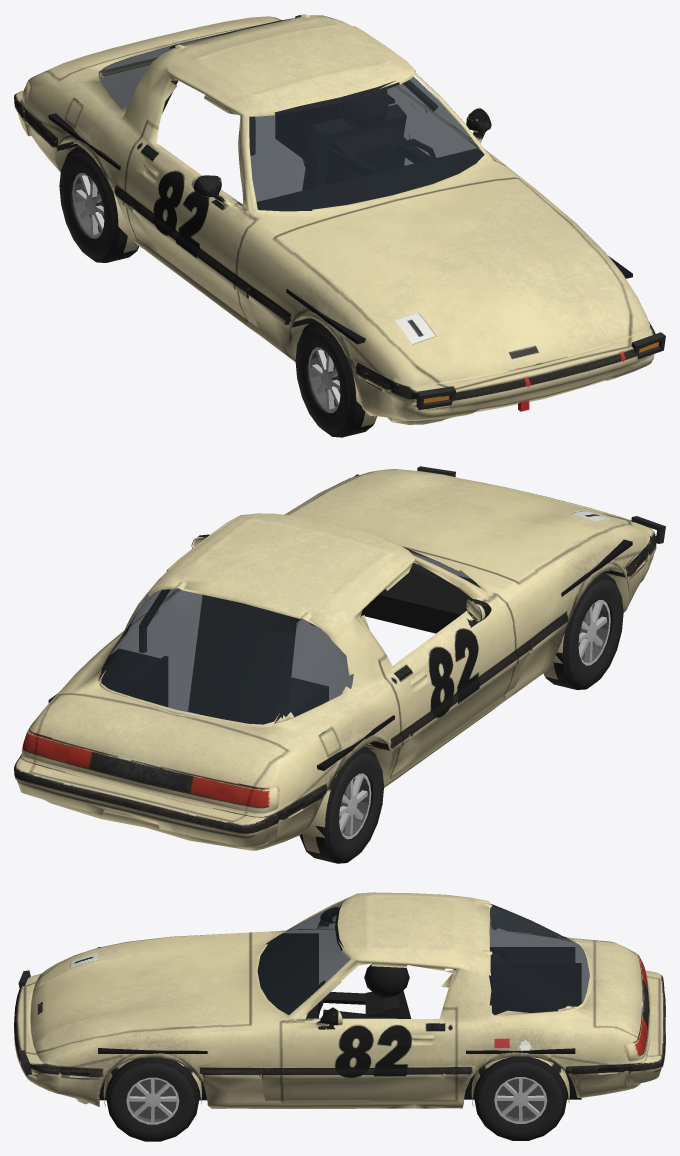
3 renders of one model, top to bottom at view 1: azimuth 30°, elevation 25°; view 2: azimuth 150°, elevation 25°; view 3: azimuth 270°, elevation 25°, orthographic. The views are drawn at different scales.
Visible parts, largest first — view 1: body, wheel_fr, wheel_rr; view 2: body, wheel_rr, wheel_fr; view 3: body, wheel_fl, wheel_rl.
Part boxes in pixels (x1,y1,x2,y2): body: (14,14,665,427); wheel_fr: (295,320,373,437); wheel_rr: (59,146,138,262); body: (14,466,665,853); wheel_rr: (299,746,383,863); wheel_fr: (545,573,623,689); body: (14,892,665,1108); wheel_fl: (106,1057,199,1141); wheel_rl: (474,1056,566,1140).
Bounding box in the file's own units: 1.72 × 1.25 × 4.29.
Materials: 2 (1 with a texture image).
